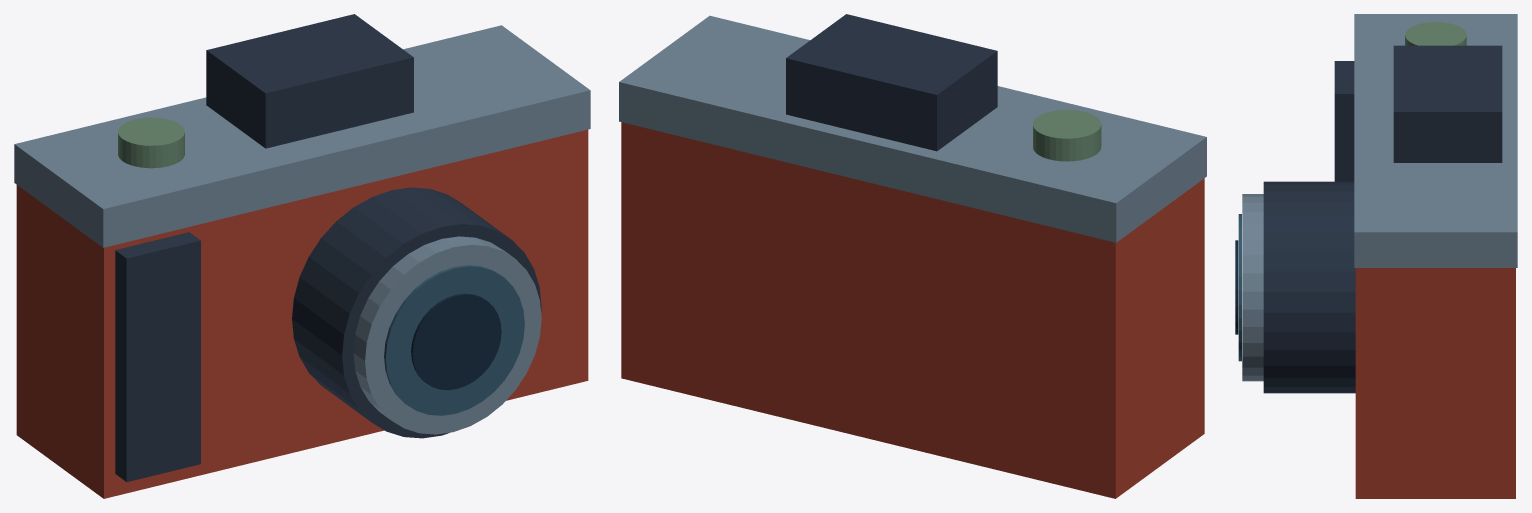
Rendered from camera.glb.
3 renders of one model, left to right at view 1: azimuth 30°, elevation 25°; view 2: azimuth 150°, elevation 25°; view 3: azimuth 270°, elevation 25°, orthographic. The views are drawn at different scales.
Visible parts, largest first — view 1: body, silver top, viewfinder, grip, lens barrel, lens ring, lens face, inner glass, shutter; view 2: body, silver top, viewfinder, shutter; view 3: body, silver top, lens barrel, viewfinder, lens ring, grip, shutter, lens face, inner glass.
Part boxes in pixels (<box>): body: <box>16,129,588,498</box>; silver top: <box>14,25,590,247</box>; viewfinder: <box>206,14,413,148</box>; grip: <box>115,232,200,481</box>; lens barrel: <box>292,187,541,438</box>; lens ring: <box>353,236,541,434</box>; lens face: <box>384,265,524,415</box>; inner glass: <box>411,293,501,390</box>; shutter: <box>118,117,184,168</box>; body: <box>621,122,1204,498</box>; silver top: <box>619,15,1206,242</box>; viewfinder: <box>786,14,997,151</box>; shutter: <box>1033,109,1101,161</box>; body: <box>1355,268,1515,498</box>; silver top: <box>1354,14,1517,267</box>; lens barrel: <box>1263,181,1355,393</box>; viewfinder: <box>1393,45,1502,162</box>; lens ring: <box>1242,194,1263,381</box>; grip: <box>1334,61,1354,181</box>; shutter: <box>1405,22,1466,45</box>; lens face: <box>1238,214,1241,361</box>; inner glass: <box>1235,240,1238,334</box>.
Bounding box in the file's own units: 1.71 × 1.16 × 0.933.
